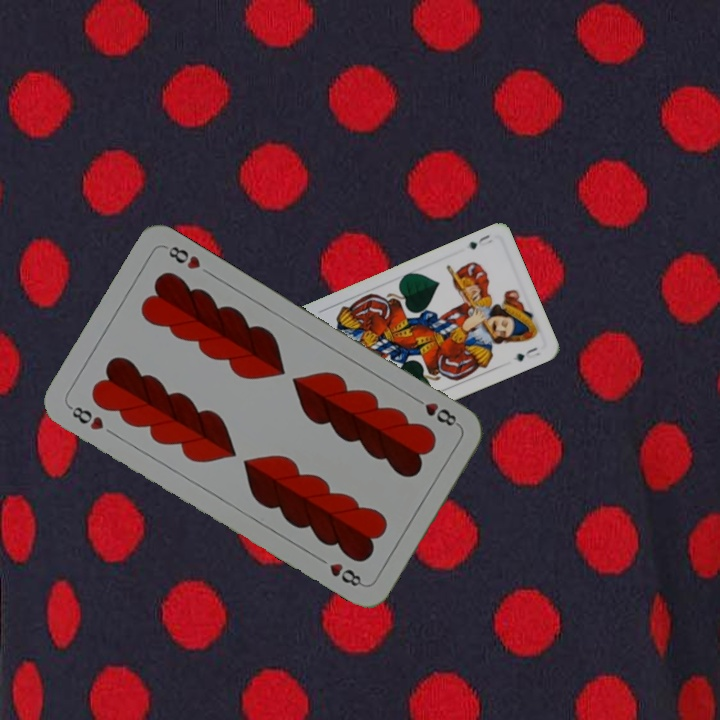GU: (465, 231, 495, 252)
H8: (409, 393, 462, 429), (64, 401, 107, 433)
